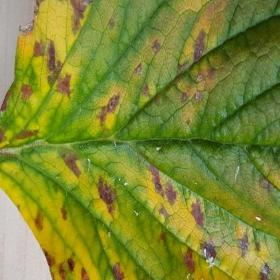Angular Leafspot: (0, 0, 279, 279)
